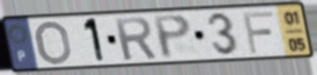1: (80, 16, 107, 65)
3: (206, 11, 241, 58)
F: (241, 9, 276, 55)
O: (34, 19, 74, 66)
P: (150, 13, 193, 61)
R: (112, 15, 159, 62)
